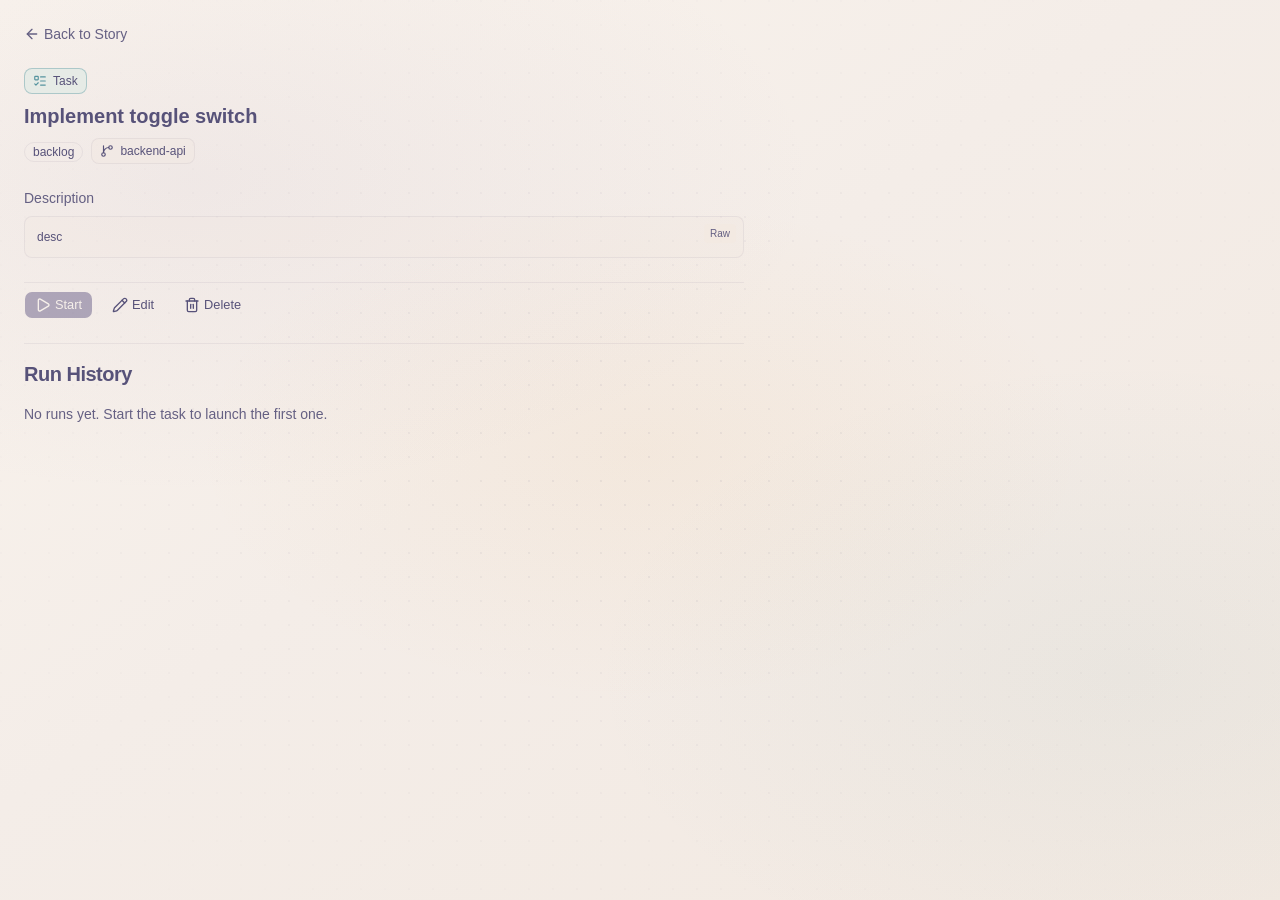
TaskDetailPage › disables the Start button and shows the blocker titles in a tooltip when the blocking chain resolves BLOCKED
This screenshot has width=1280, height=900.
Hover over the element with test id "task-start-button-tooltip-trigger": (58, 305) [24, 291, 93, 319]
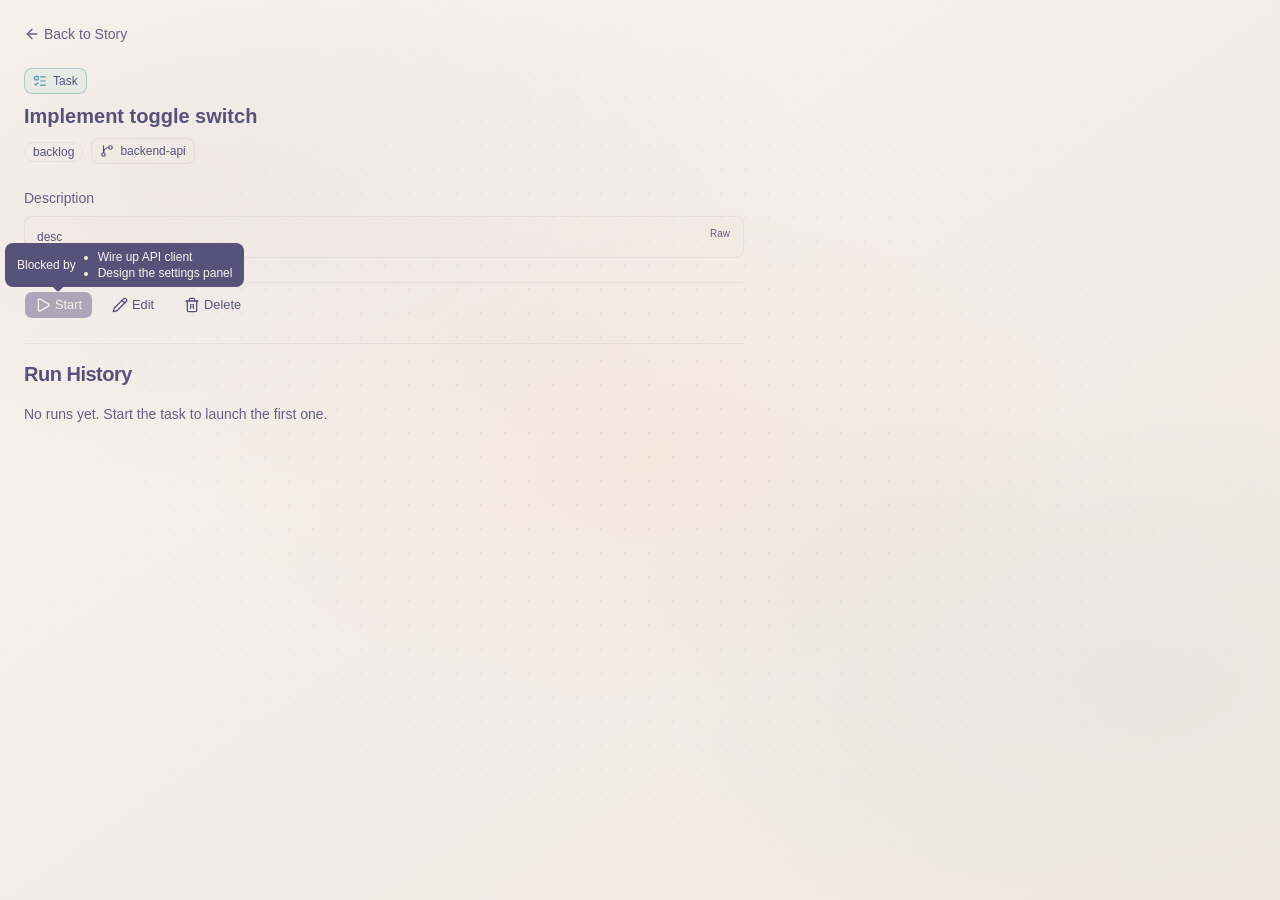
Check: the tooltip with test id "task-start-blocked-tooltip" shows "Wire up API client", box [98, 250, 192, 264]
Check: the tooltip with test id "task-start-blocked-tooltip" shows "Design the settings panel", box [98, 266, 232, 280]
